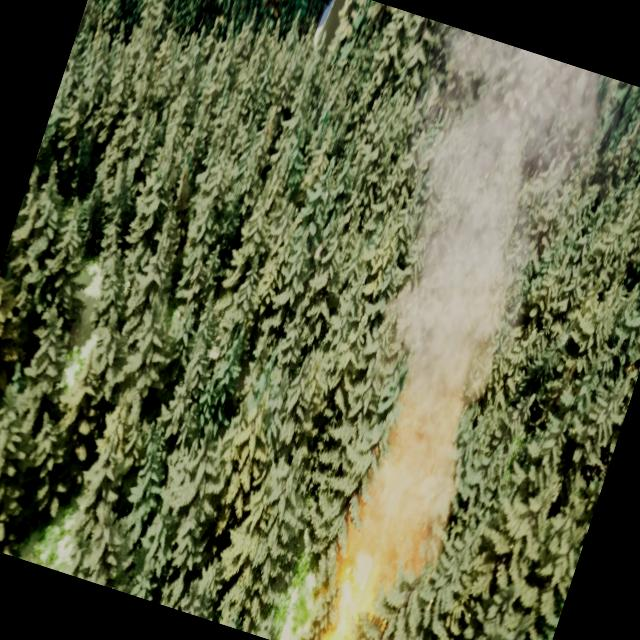fire: (302, 527, 398, 640)
smoke: (296, 27, 616, 562)
